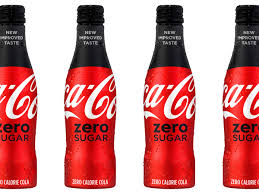coke-bottle-300ml: (55, 2, 126, 194), (138, 3, 201, 188), (221, 5, 259, 188), (1, 4, 38, 191)
